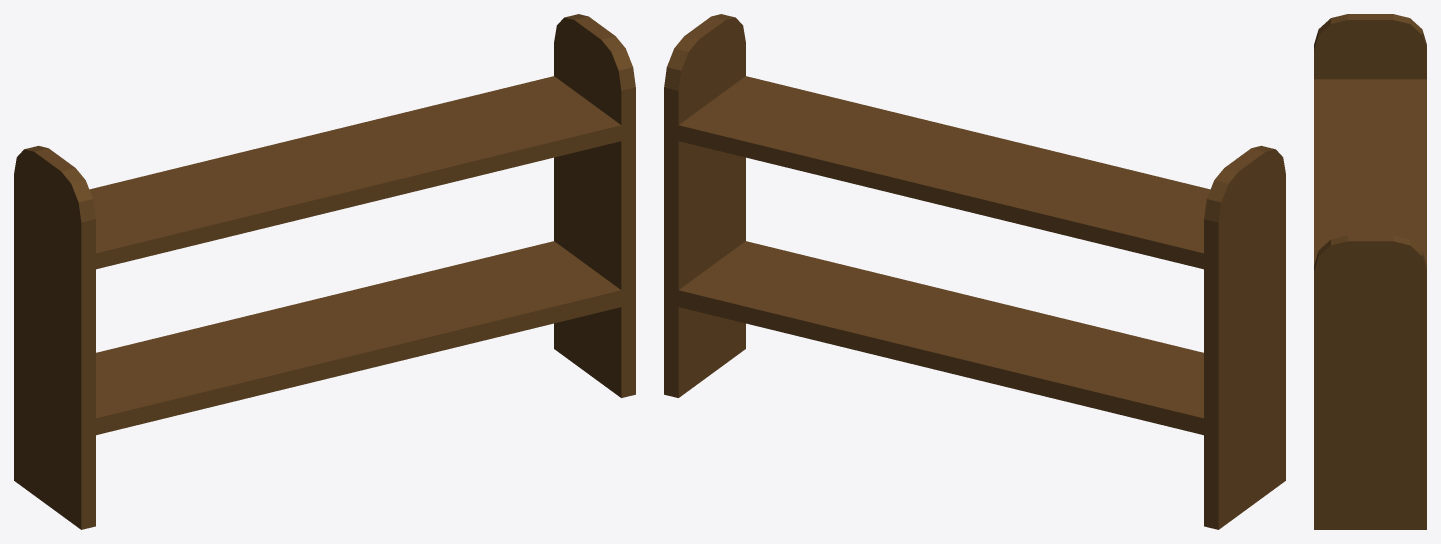
File: polkaNearBed.fbx
3 renders of one model, left to right at view 1: azimuth 30°, elevation 25°; view 2: azimuth 150°, elevation 25°; view 3: azimuth 270°, elevation 25°, orthographic. The views are drawn at different scales.
Visible parts, largest first — view 1: Cube; view 2: Cube; view 3: Cube.
Boxes of the visible parts, x1,y1,x2,y2 form: Cube: [14, 14, 635, 529]; Cube: [664, 14, 1285, 529]; Cube: [1314, 14, 1426, 529].
Bounding box in the file's own units: 168 × 99.43 × 35.25.
